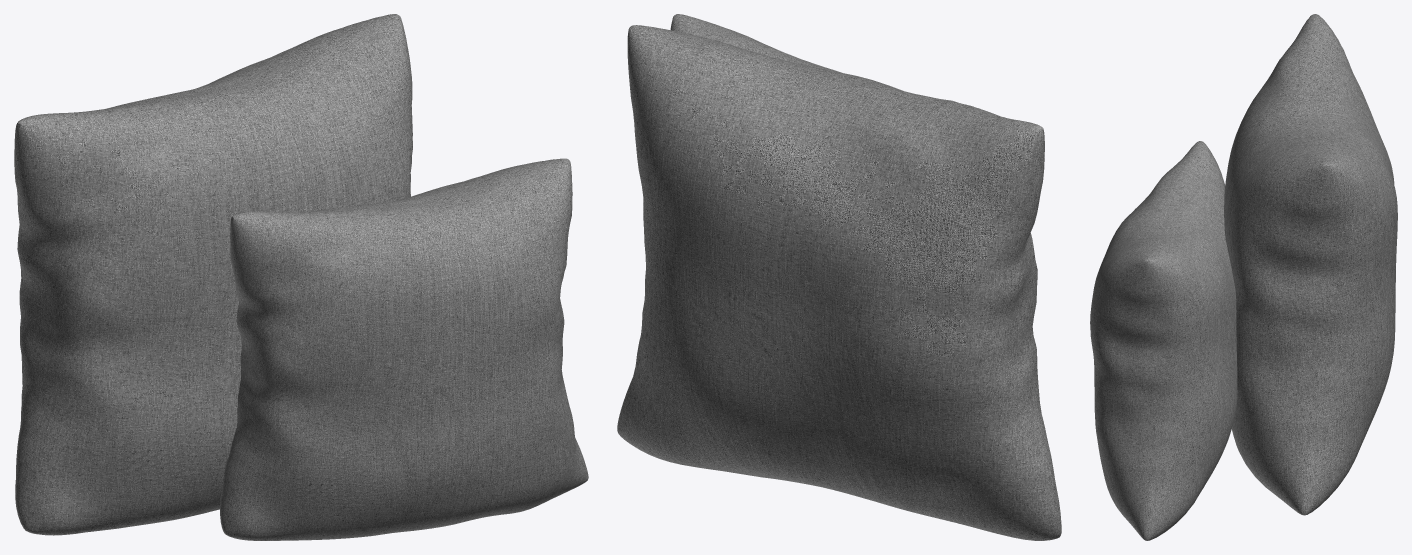
The picture shows the model from 3 angles, left to right: view 1: azimuth 30°, elevation 25°; view 2: azimuth 150°, elevation 25°; view 3: azimuth 270°, elevation 25°; orthographic projection. The views are drawn at different scales.
Visible parts, largest first — view 1: C-skpDA71, C-skpDA71.001; view 2: C-skpDA71, C-skpDA71.001; view 3: C-skpDA71, C-skpDA71.001.
Boxes of the visible parts, x1,y1,x2,y2 form: C-skpDA71: (14, 14, 412, 535); C-skpDA71.001: (220, 158, 588, 540); C-skpDA71: (617, 25, 1061, 540); C-skpDA71.001: (670, 14, 840, 72); C-skpDA71: (1224, 14, 1397, 515); C-skpDA71.001: (1090, 141, 1237, 540).
Bounding box in the file's own units: 0.57 × 0.4804 × 0.3786.
Materials: 1 (1 with a texture image).
